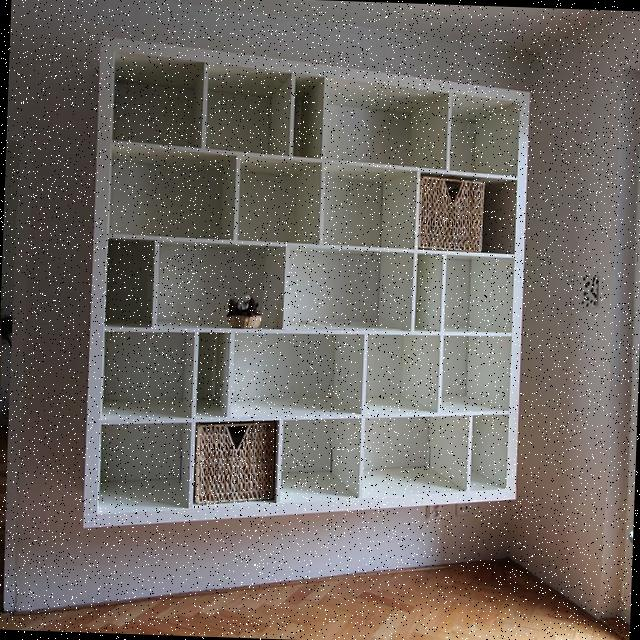Shelf: (69, 29, 538, 560)
